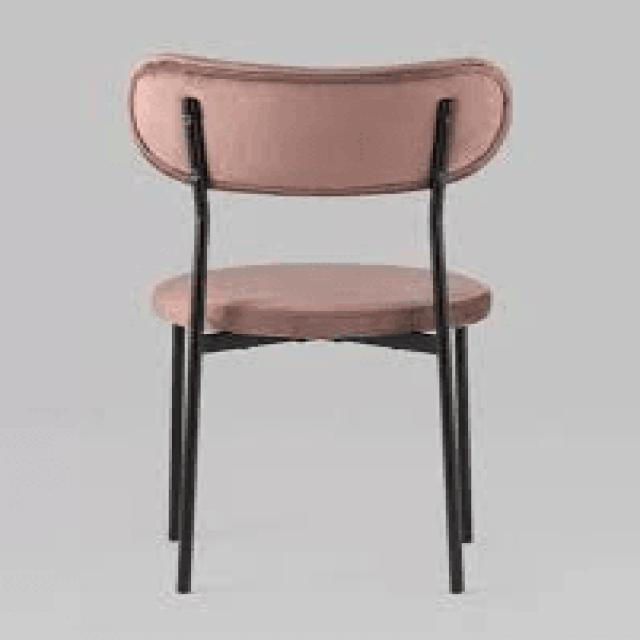chair: (114, 49, 519, 596), (123, 53, 518, 339)
